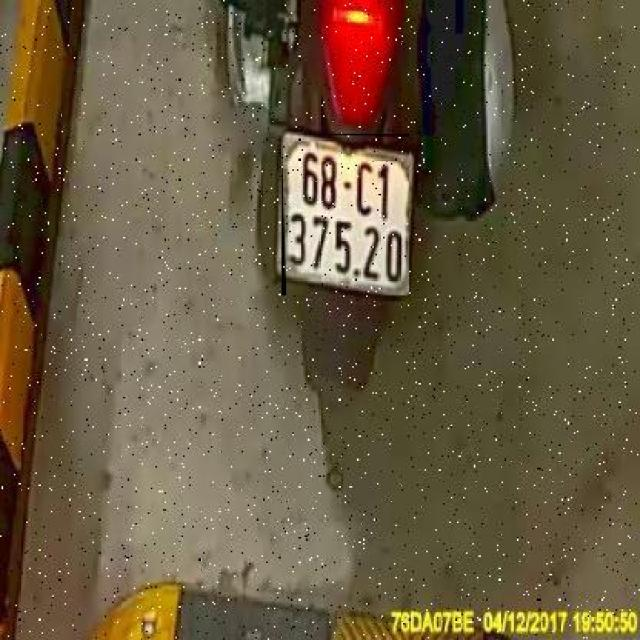number_plate: (282, 134, 409, 295)
